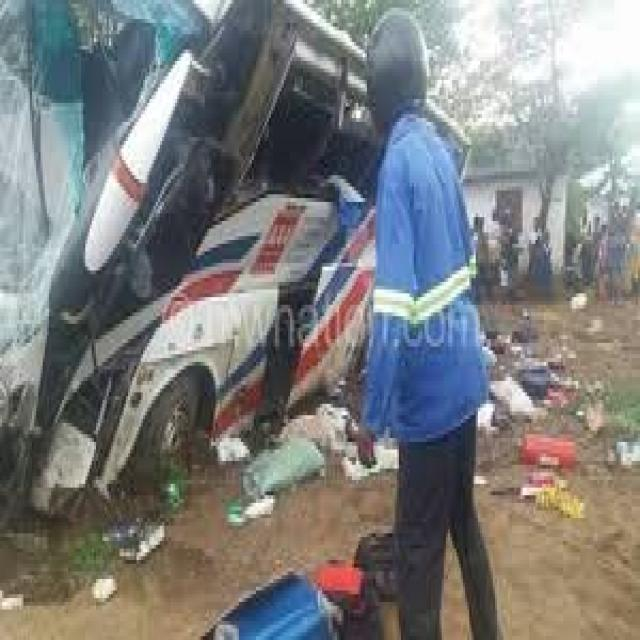accident: (3, 8, 475, 542)
